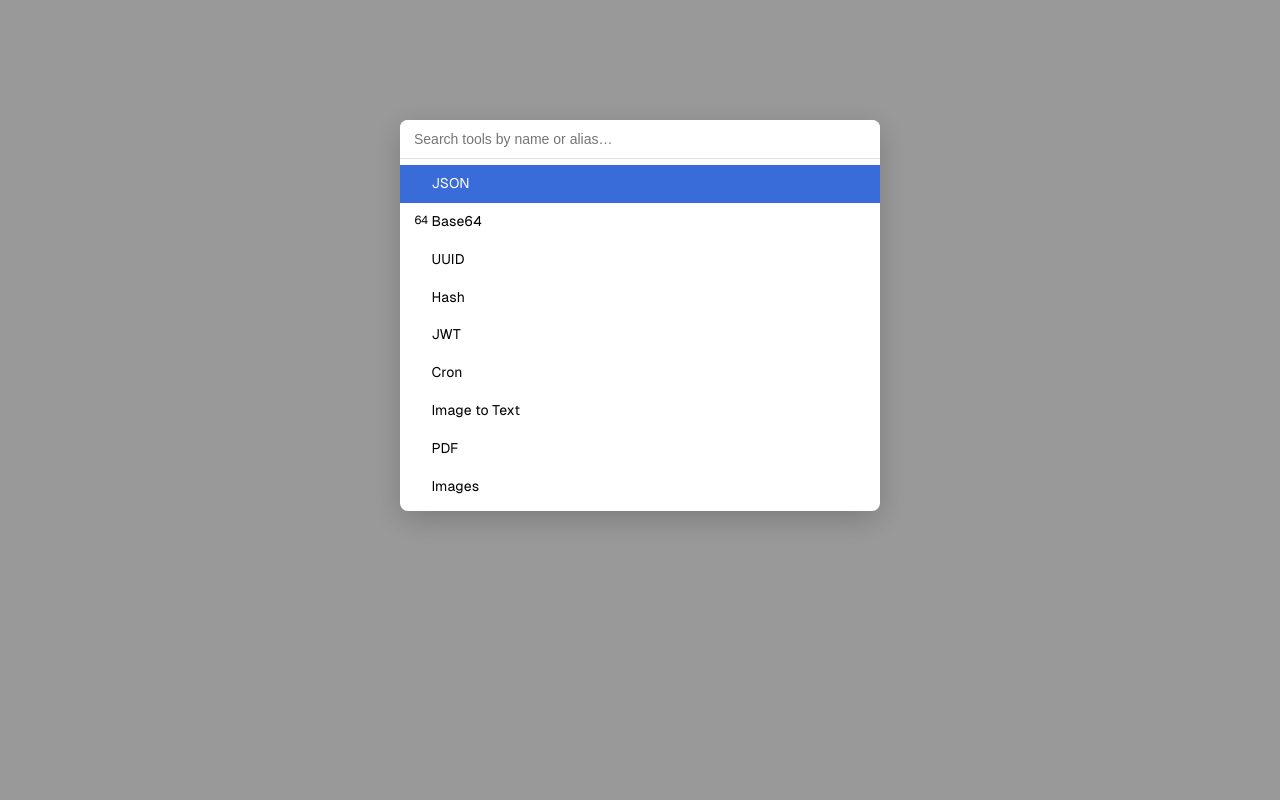
Test: CommandPalette › shows an explicit empty state for a query matching nothing (AC3)
In the dropdown with placeholder "Search tools by name or alias…": (640, 140) [400,120,880,159], type "zzz"
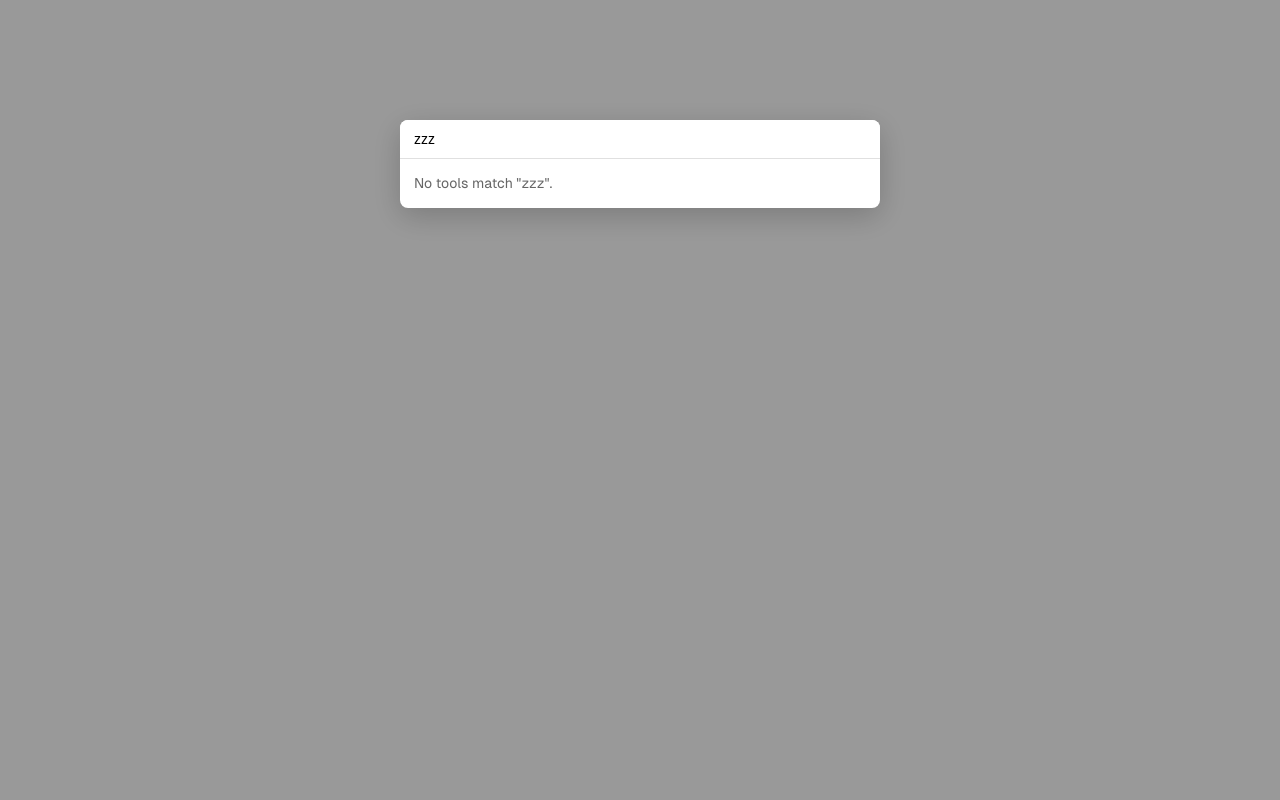
Result: the message "No tools match \"zzz\"." shows "No tools match \"zzz\"" at [414,175,552,191]
